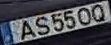5: (49, 11, 64, 32), (62, 9, 76, 30)
A: (19, 19, 37, 40)
O: (76, 6, 92, 26)
Q: (90, 3, 107, 22)
S: (34, 15, 50, 35)
